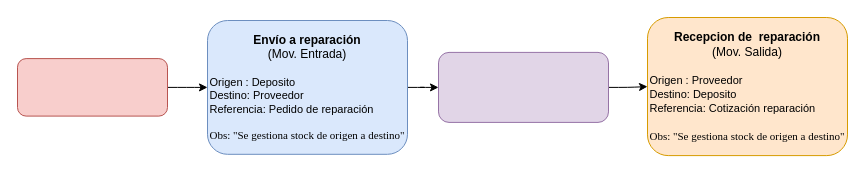
Image size: 865x174. Some labels were removed from this diagram. Each missing label, with the centre of its shape:
"Cotización reparación (Cotización - Ventas) Referencia: Envío a reparación" belongs at (x=523, y=86).
"Pedido de reparación (Pedido-Compras)" belongs at (x=92, y=87).
